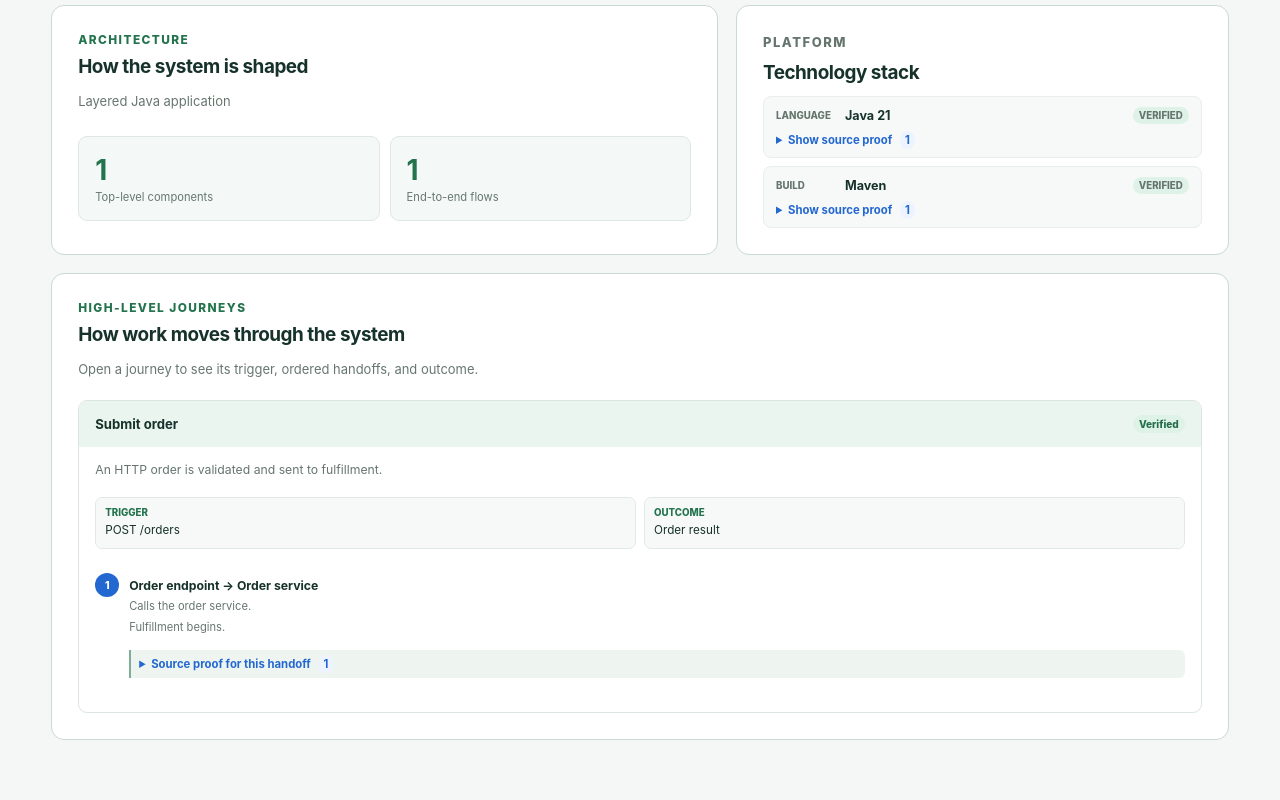
Scenario: developer overview › shows purpose, architecture, useful metrics, technologies, and journeys
The width and height of the screenshot is (1280, 800).
(page scrolled)
Expected: the text "Layered Java application" is shown, [78,93,231,109]
Expected: the text "Java 21" is shown, [845,108,890,123]
Click the heading "Source proof for this handoff 1": (242, 664) [151,655,333,673]
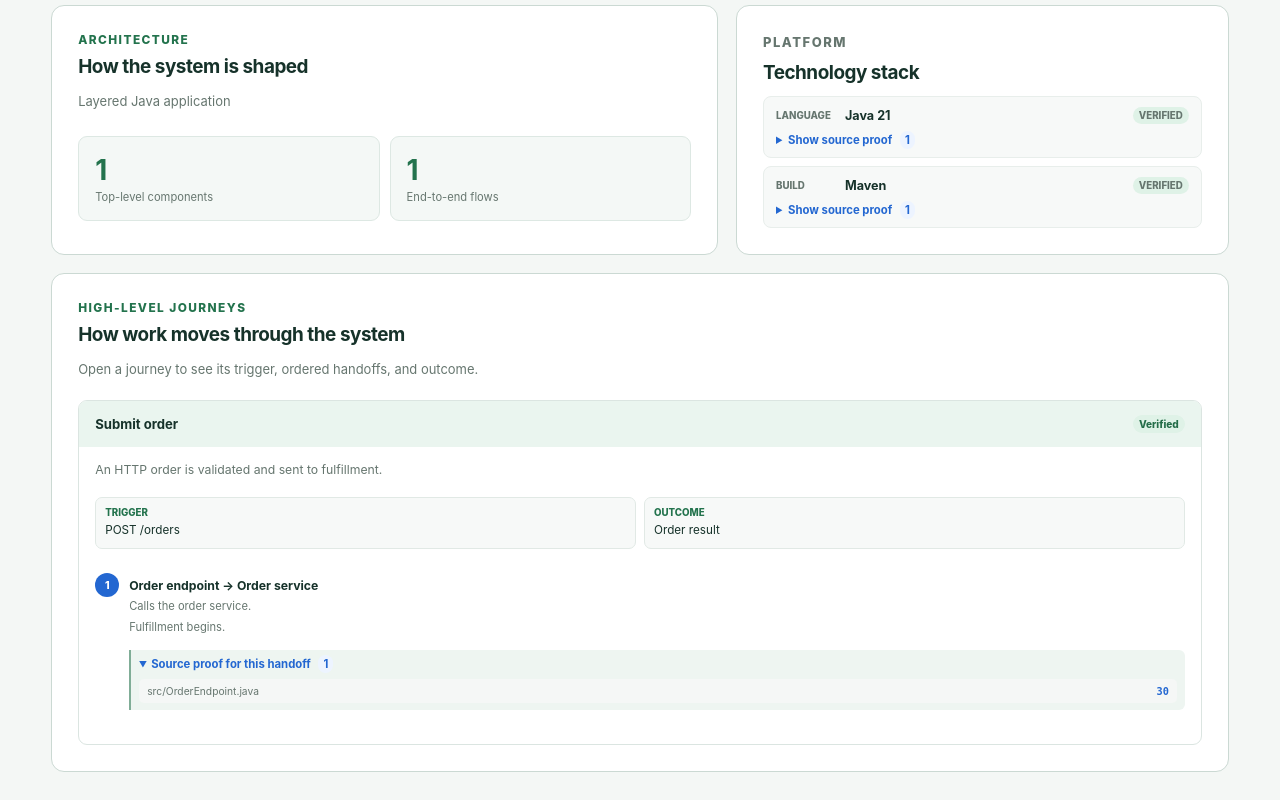
Expected: the text "src/OrderEndpoint.java" is shown, [147,685,259,697]
Expected: the text "30" is shown, [1156,685,1169,697]
